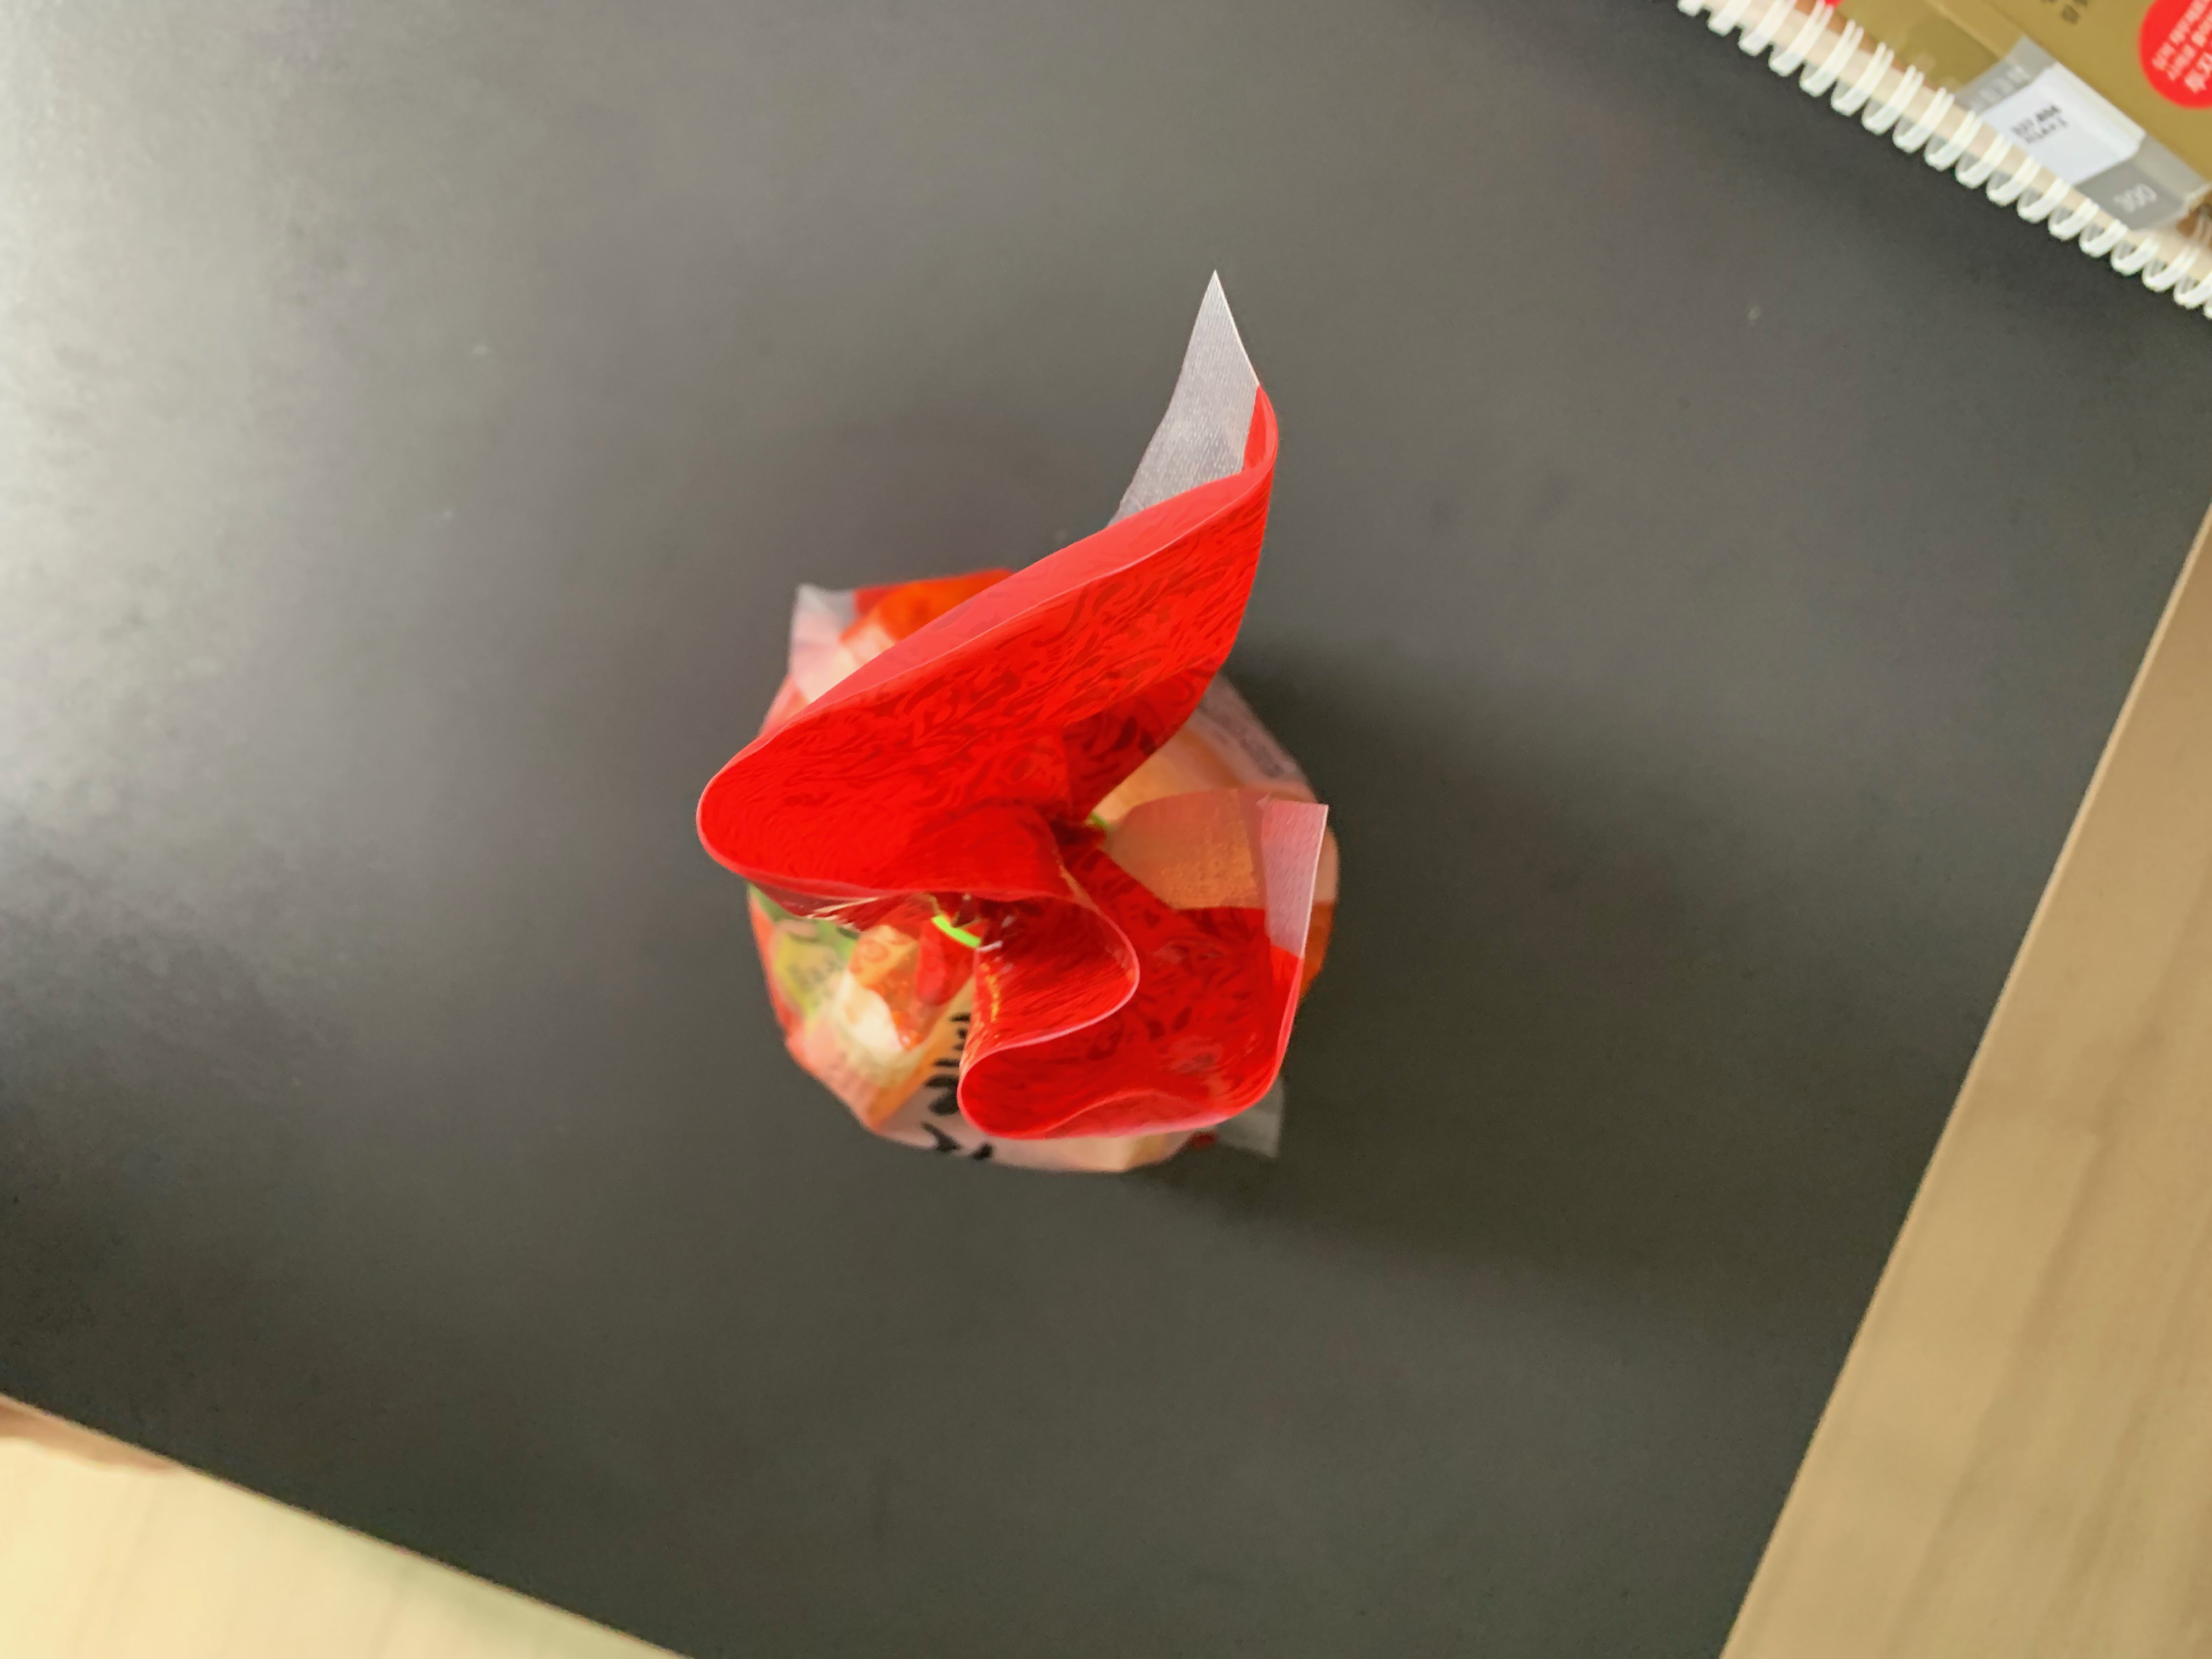kimchi: (698, 457, 1345, 1168)
